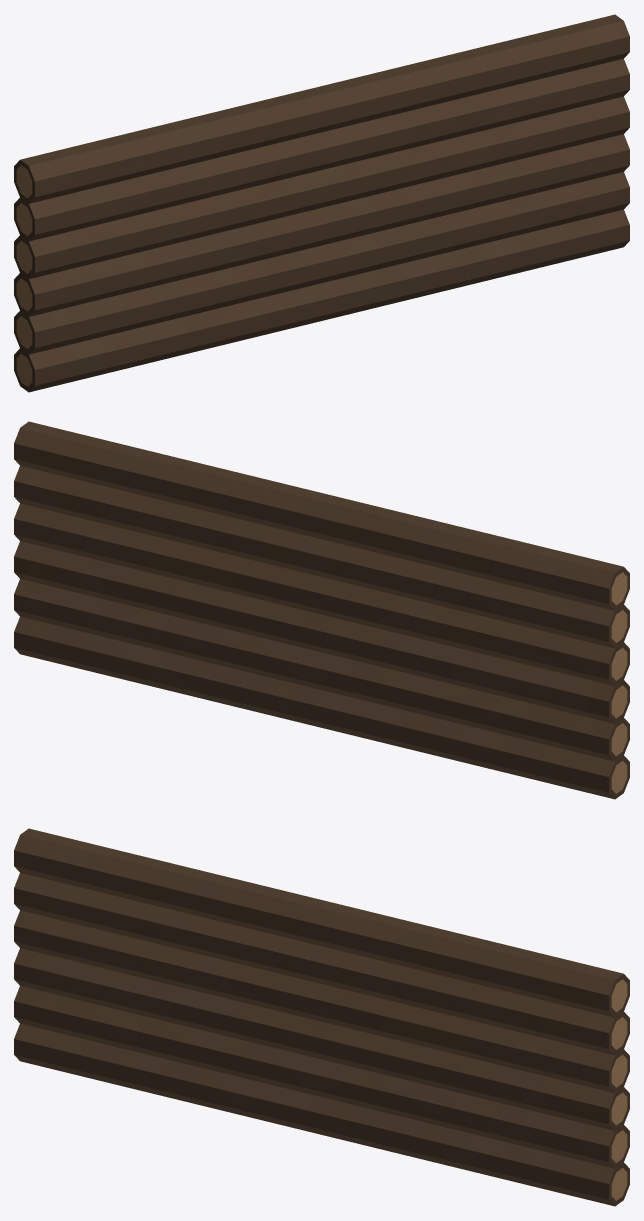
Rendered from cabin_Wall_Tall.obj.
The picture shows the model from 3 angles, top to bottom: view 1: azimuth 30°, elevation 25°; view 2: azimuth 150°, elevation 25°; view 3: azimuth 330°, elevation 25°; orthographic projection.
Parts seen in each view (by area): view 1: cabin_Wall_Tall; view 2: cabin_Wall_Tall; view 3: cabin_Wall_Tall.
Boxes of the visible parts, x1,y1,x2,y2 form: cabin_Wall_Tall: [14, 14, 629, 392]; cabin_Wall_Tall: [14, 421, 629, 799]; cabin_Wall_Tall: [14, 828, 629, 1206].
Bounding box in the file's own units: 8.91 × 3.24 × 0.5428.
